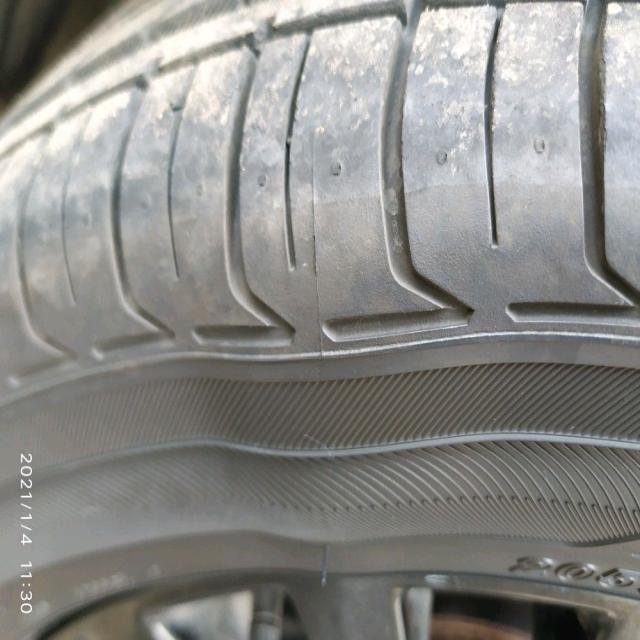Bulge: (191, 238, 423, 543)
